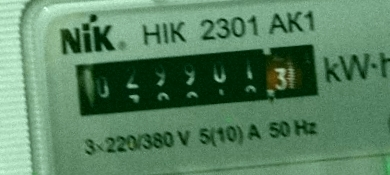0: (91, 71, 111, 99), (209, 55, 227, 85)
1: (240, 52, 255, 81)
2: (120, 62, 140, 91)
3: (270, 64, 289, 91)
9: (150, 60, 168, 88), (181, 59, 196, 87)
screen: (64, 33, 329, 126)
